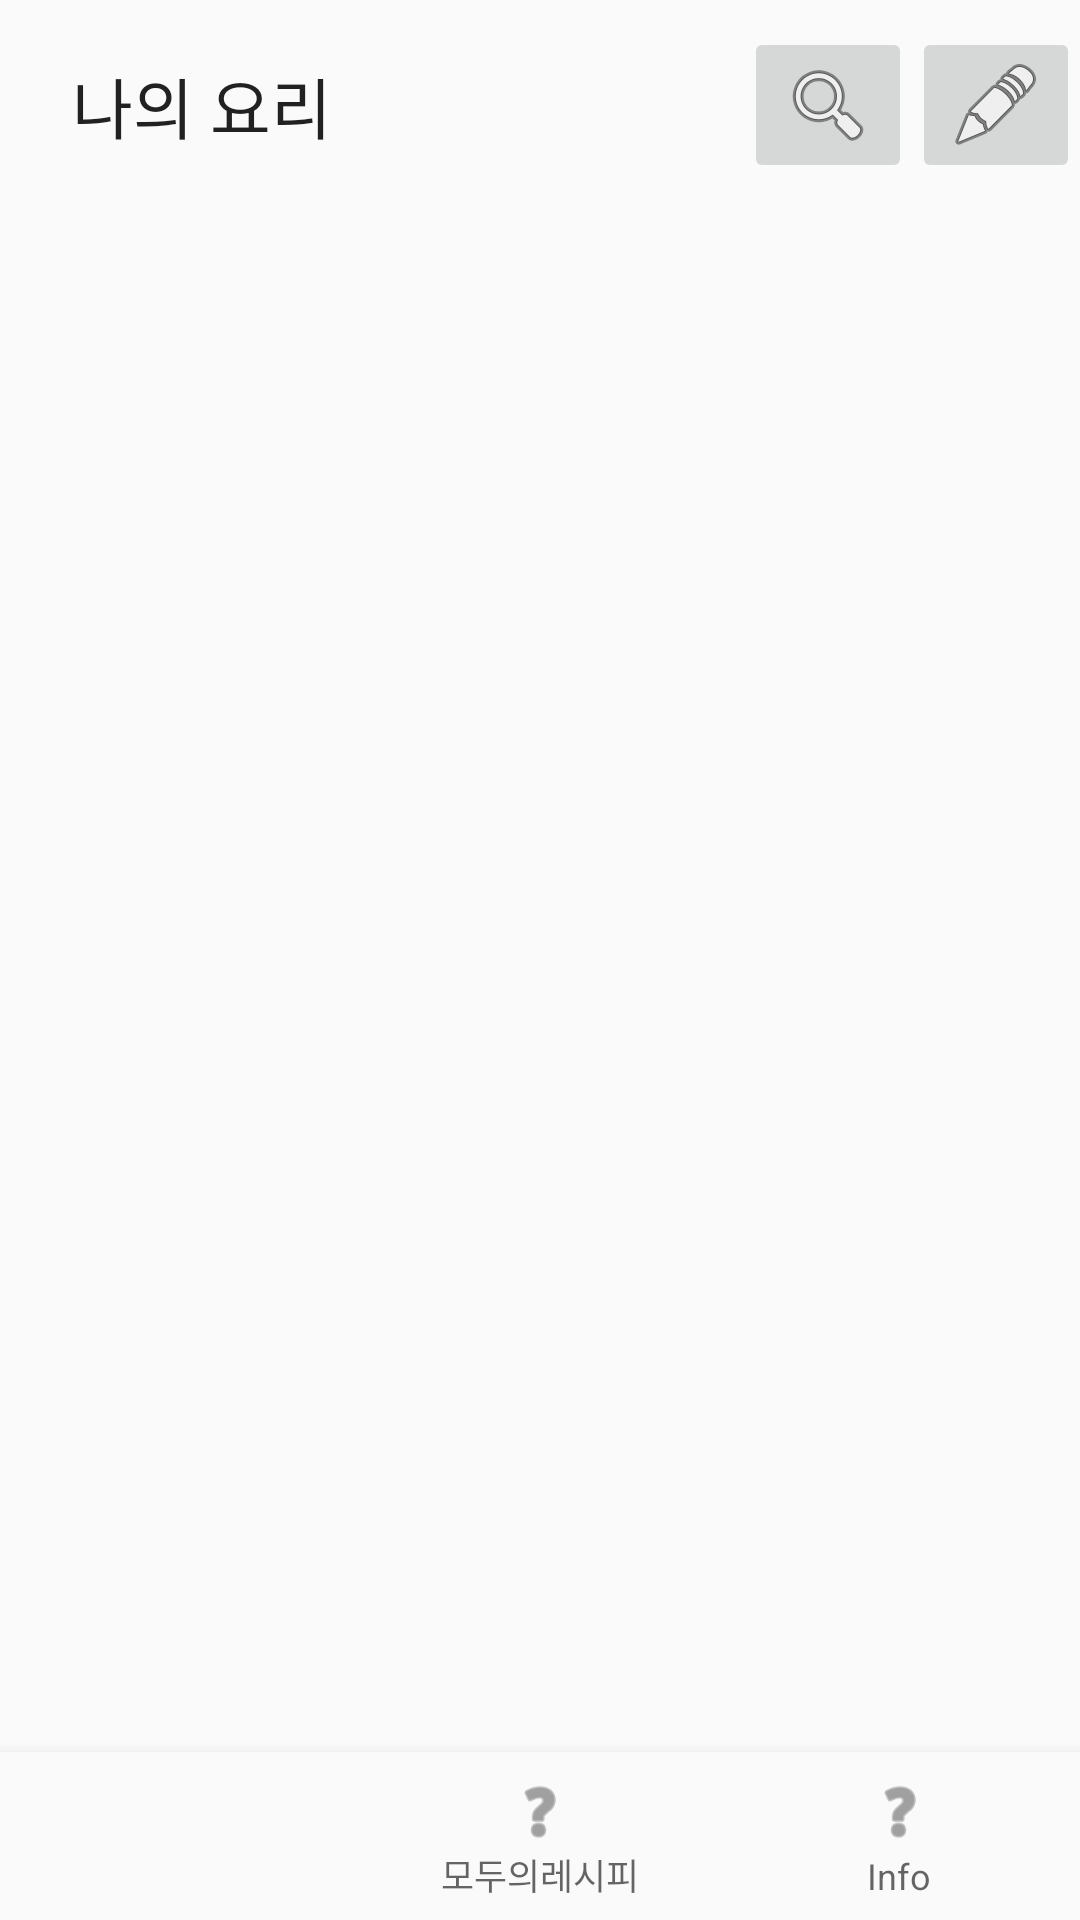

Icon click points for this 1080 × 1920 phone screenshot, format point (x, y):
edit: point (996, 105)
search: point (828, 105)
